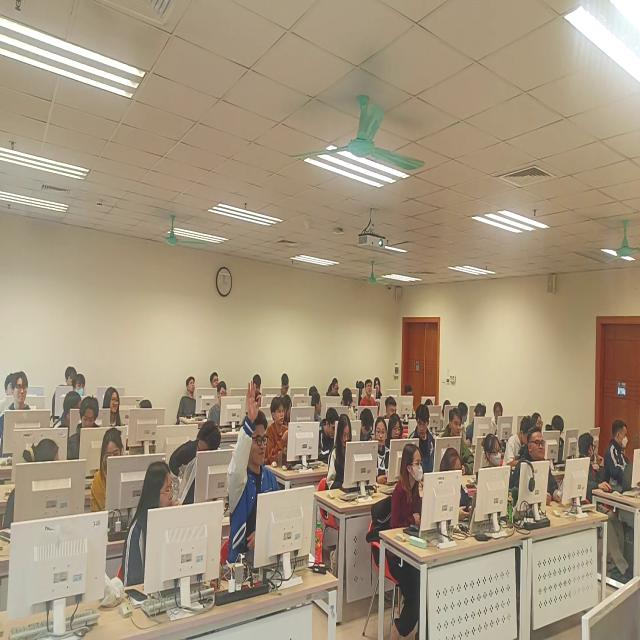raise_hand: (235, 396, 282, 566), (102, 389, 128, 434)
raise_head: (128, 464, 198, 591), (391, 448, 427, 579), (2, 373, 41, 454), (519, 435, 558, 506), (480, 434, 514, 514), (270, 401, 293, 471), (441, 414, 469, 464), (181, 376, 208, 420), (374, 418, 391, 483), (494, 399, 508, 438), (363, 379, 378, 414), (75, 376, 91, 402), (211, 370, 221, 391)
using_computer: (10, 441, 76, 528), (97, 435, 150, 522), (436, 450, 482, 536), (333, 418, 361, 495), (609, 425, 640, 489), (208, 386, 241, 436), (79, 404, 107, 460), (413, 407, 436, 463), (549, 418, 577, 464), (471, 403, 491, 437), (339, 391, 357, 420), (389, 417, 404, 445), (280, 372, 295, 399)
using_phone: (317, 412, 339, 463)
